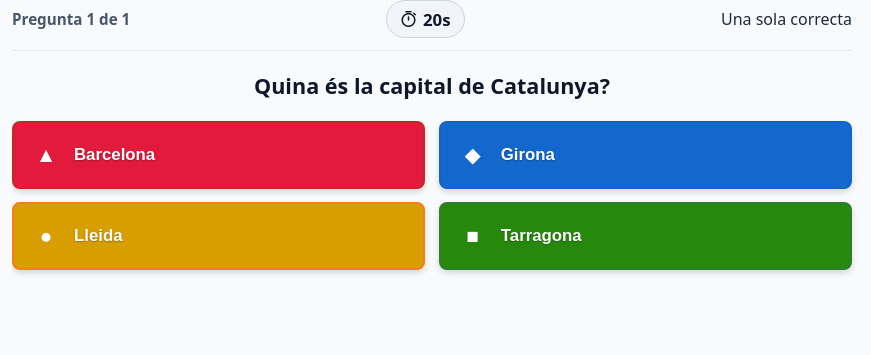
QuizPreviewModal Component › answers a single-choice question, reveals correct answer and finishes simulation
Note: Click Barcelona (correct option 0)
What coordinates should you click on to do the following:
click the button with test id "preview-answer-btn-0"
I would click on:
 (115, 154)
Its box is [12, 120, 425, 188].
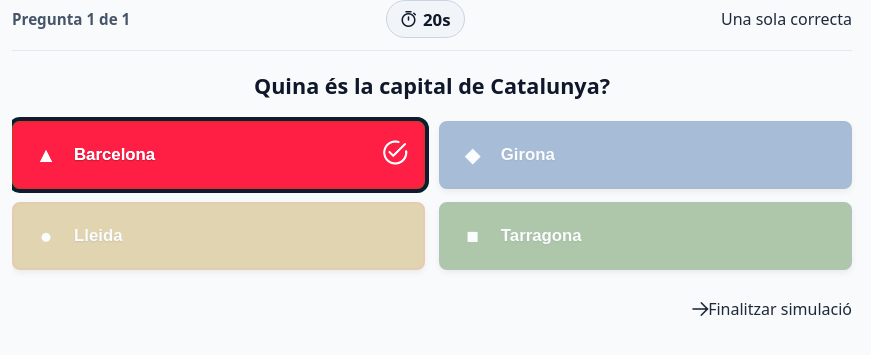
Check: the button with test id "btn-next-preview-question" is shown
Note: Click finish
What coordinates should you click on to do the following:
click the button with test id "btn-next-preview-question"
I would click on:
 (772, 309)
Its box is [692, 298, 852, 320].
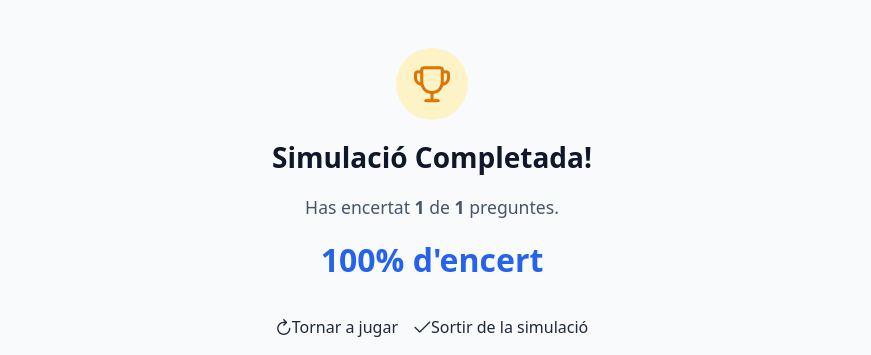
Check: the element with test id "preview-completed-screen" is shown, box [272, 48, 592, 338]
Check: the text "Simulació Completada!" is shown, box [272, 136, 592, 178]
Check: the text "100%" is shown, box [321, 238, 543, 281]
